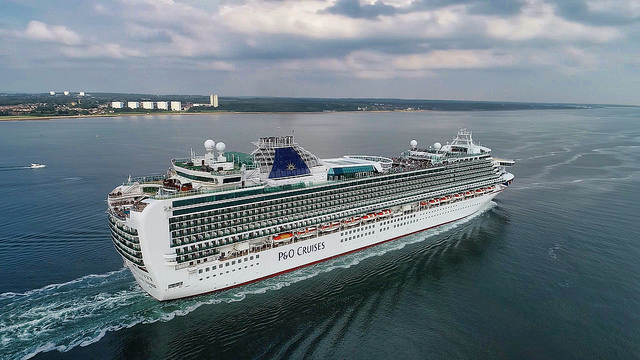cruise_ship: (110, 133, 517, 302)
